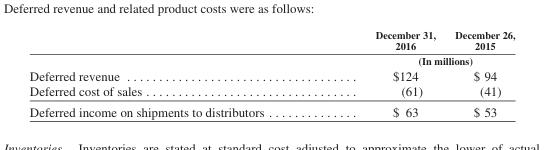table: (28, 28, 514, 118)
table column: (28, 28, 319, 118), (319, 28, 444, 118), (444, 28, 514, 118)
table column header: (28, 28, 514, 67)
table row: (28, 28, 514, 52), (28, 82, 514, 101), (28, 101, 514, 118), (28, 52, 514, 67), (28, 67, 514, 82)
table spanning cell: (319, 52, 514, 67)
